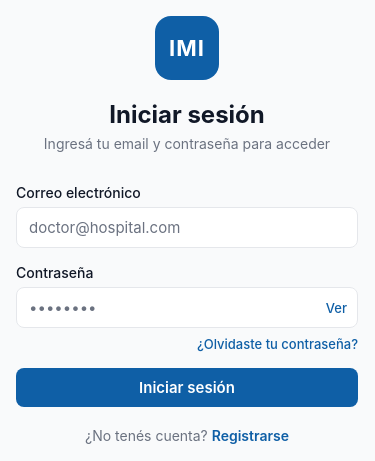
Scenario: LoginScreen › toggles password visibility
This screenshot has width=375, height=461.
What coordinates should you click on to do the following:
click the text "Ver"
I would click on:
 (336, 308)
Its box is [326, 300, 347, 316].
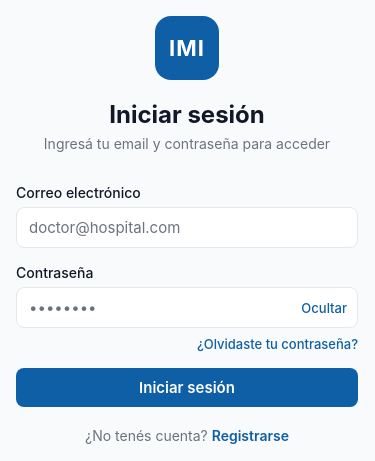
Expected: the text "Ocultar" is shown
What coordinates should you click on to do the following:
click the text "Ocultar"
I would click on:
 (324, 308)
Its box is [301, 300, 347, 316].
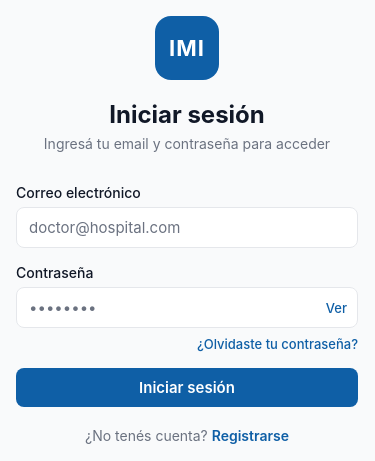
Expected: the text "Ver" is shown, [326, 300, 347, 316]
